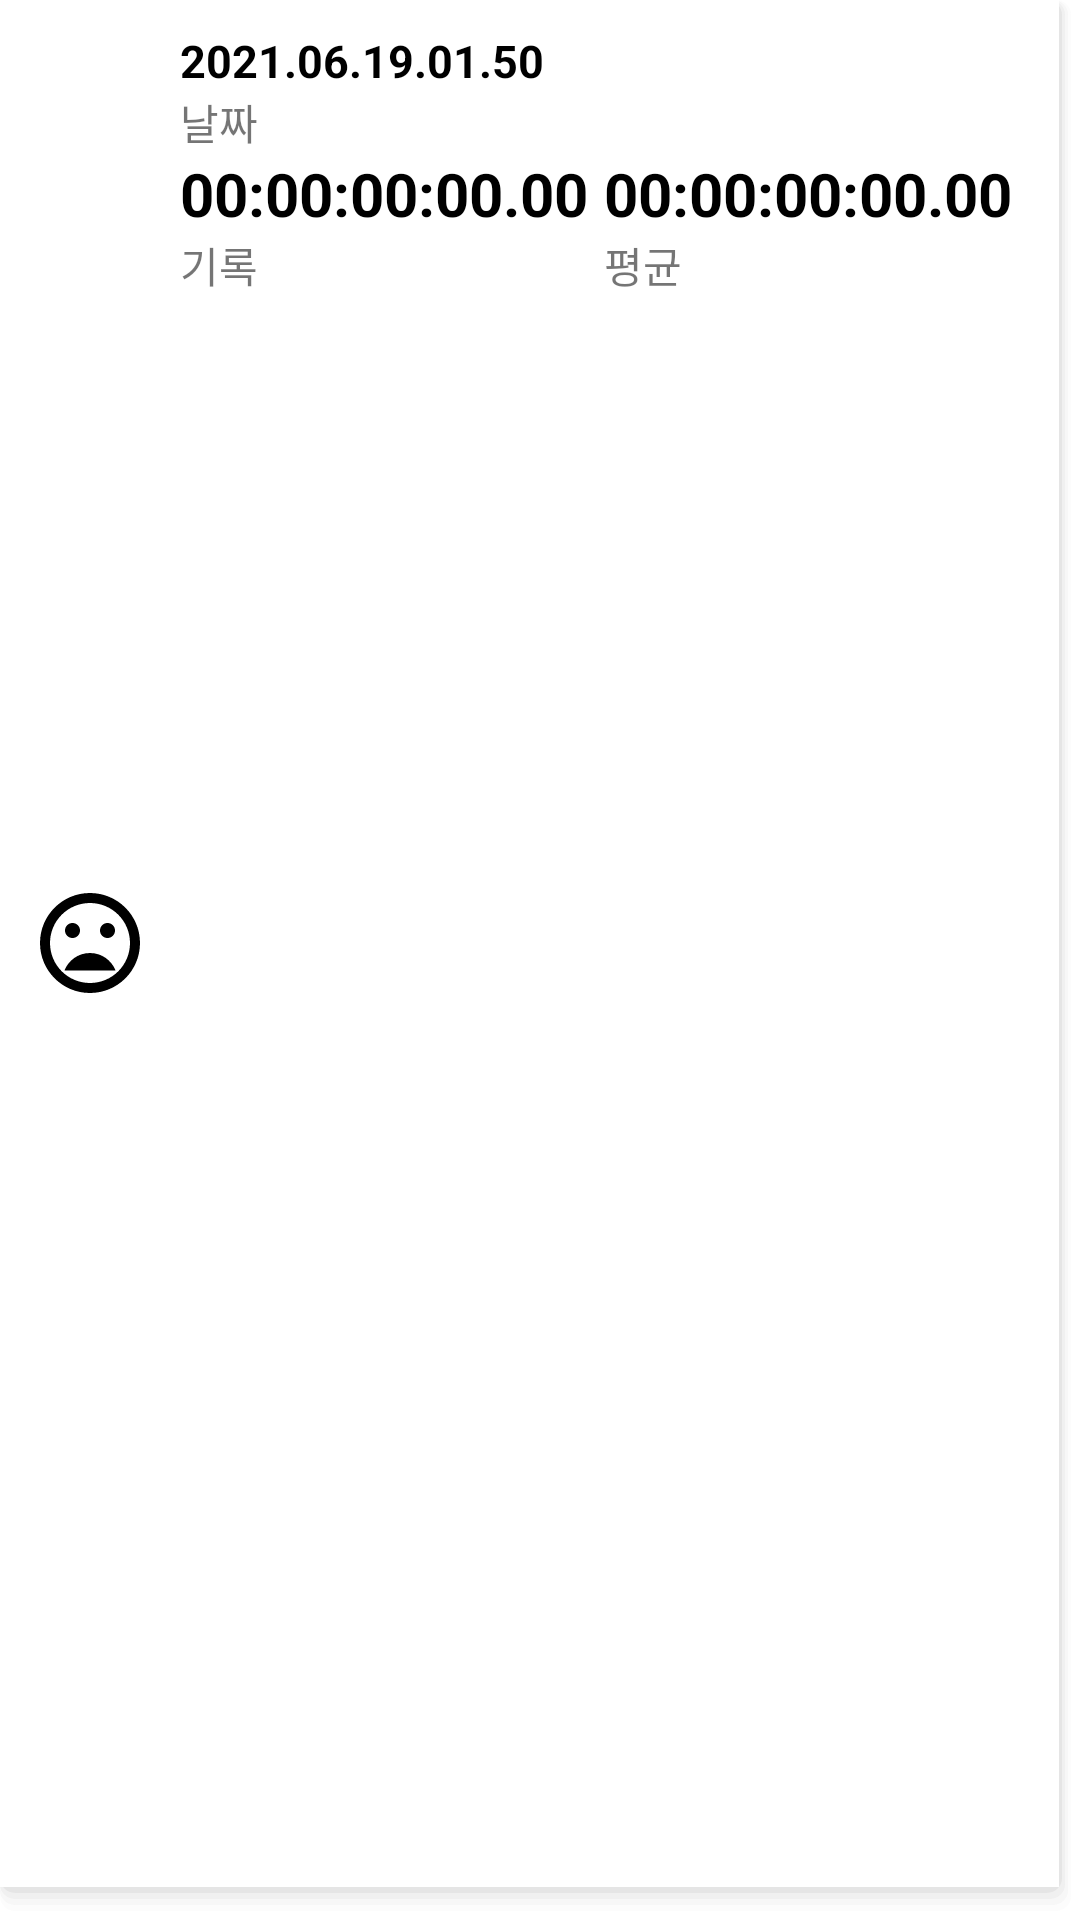

Named icons in this screenshot (1080px x 1920px) and their bounding boxes, BBox(x1, y1, x2, y2):
mood bad: BBox(40, 893, 140, 993)
